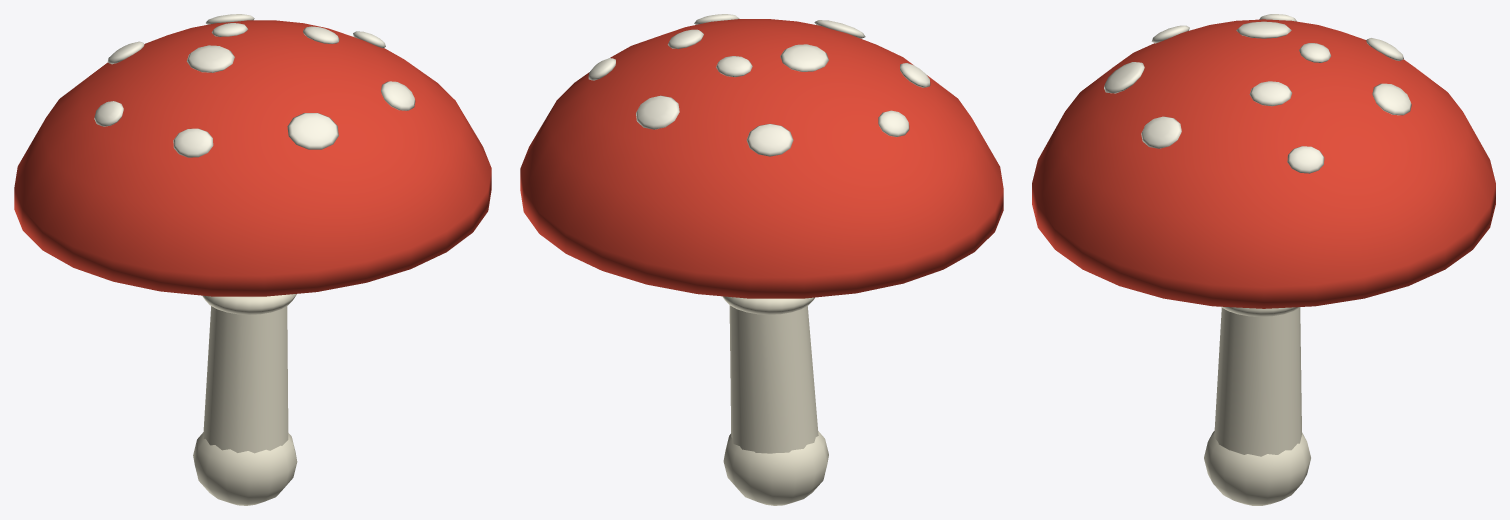
The model's file is mushroom_red_toadstool.glb.
3 views of the same model, side by side, from view 1: azimuth 30°, elevation 25°; view 2: azimuth 150°, elevation 25°; view 3: azimuth 270°, elevation 25° (orthographic).
Parts seen in each view (by area): view 1: Toadstool_Closed_Red_Cap, Toadstool_Connected_Tall_Stem, Toadstool_Rounded_Stem_Base, Toadstool_Attached_White_Spot_01, Toadstool_Stem_Collar, Toadstool_Attached_White_Spot_04, Toadstool_Attached_White_Spot_00, Toadstool_Attached_White_Spot_02, Toadstool_Attached_White_Spot_03; view 2: Toadstool_Closed_Red_Cap, Toadstool_Connected_Tall_Stem, Toadstool_Rounded_Stem_Base, Toadstool_Stem_Collar, Toadstool_Attached_White_Spot_07, Toadstool_Attached_White_Spot_08, Toadstool_Attached_White_Spot_04, Toadstool_Attached_White_Spot_03, Toadstool_Attached_White_Spot_09; view 3: Toadstool_Closed_Red_Cap, Toadstool_Connected_Tall_Stem, Toadstool_Rounded_Stem_Base, Toadstool_Attached_White_Spot_02, Toadstool_Attached_White_Spot_08, Toadstool_Attached_White_Spot_05, Toadstool_Attached_White_Spot_06, Toadstool_Attached_White_Spot_01, Toadstool_Attached_White_Spot_04, Toadstool_Stem_Collar.
Boxes of the visible parts, x1=… form: Toadstool_Closed_Red_Cap: x1=14, y1=20, x2=491, y2=296; Toadstool_Connected_Tall_Stem: x1=203, y1=306, x2=288, y2=453; Toadstool_Rounded_Stem_Base: x1=193, y1=432, x2=297, y2=505; Toadstool_Attached_White_Spot_01: x1=287, y1=113, x2=338, y2=149; Toadstool_Stem_Collar: x1=202, y1=294, x2=296, y2=314; Toadstool_Attached_White_Spot_04: x1=187, y1=45, x2=234, y2=72; Toadstool_Attached_White_Spot_00: x1=173, y1=128, x2=213, y2=157; Toadstool_Attached_White_Spot_02: x1=381, y1=81, x2=415, y2=110; Toadstool_Attached_White_Spot_03: x1=94, y1=101, x2=123, y2=126; Toadstool_Closed_Red_Cap: x1=520, y1=19, x2=1003, y2=298; Toadstool_Connected_Tall_Stem: x1=729, y1=305, x2=818, y2=453; Toadstool_Rounded_Stem_Base: x1=723, y1=431, x2=828, y2=505; Toadstool_Stem_Collar: x1=722, y1=296, x2=814, y2=314; Toadstool_Attached_White_Spot_07: x1=746, y1=123, x2=793, y2=156; Toadstool_Attached_White_Spot_08: x1=636, y1=95, x2=679, y2=129; Toadstool_Attached_White_Spot_04: x1=780, y1=44, x2=828, y2=71; Toadstool_Attached_White_Spot_03: x1=878, y1=110, x2=909, y2=136; Toadstool_Attached_White_Spot_09: x1=716, y1=56, x2=752, y2=77; Toadstool_Closed_Red_Cap: x1=1032, y1=19, x2=1495, y2=308; Toadstool_Connected_Tall_Stem: x1=1214, y1=307, x2=1301, y2=456; Toadstool_Rounded_Stem_Base: x1=1204, y1=431, x2=1310, y2=505; Toadstool_Attached_White_Spot_02: x1=1141, y1=116, x2=1181, y2=148; Toadstool_Attached_White_Spot_08: x1=1372, y1=83, x2=1411, y2=115; Toadstool_Attached_White_Spot_05: x1=1249, y1=81, x2=1292, y2=106; Toadstool_Attached_White_Spot_06: x1=1287, y1=146, x2=1324, y2=173; Toadstool_Attached_White_Spot_01: x1=1104, y1=62, x2=1144, y2=93; Toadstool_Attached_White_Spot_04: x1=1236, y1=21, x2=1291, y2=38; Toadstool_Stem_Collar: x1=1221, y1=306, x2=1300, y2=316.
Bounding box in the file's own units: 0.23 × 0.2371 × 0.216.
